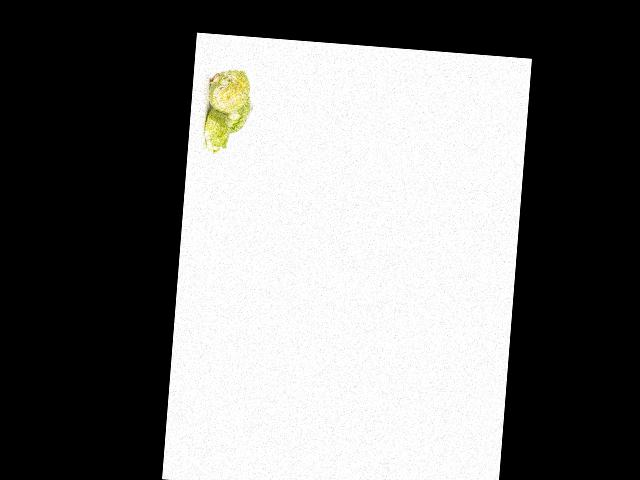lettuce: (221, 90, 255, 138)
